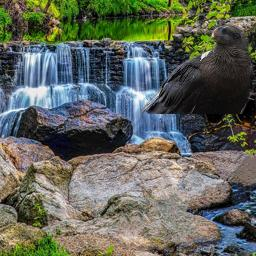Crow: (139, 23, 256, 114)
